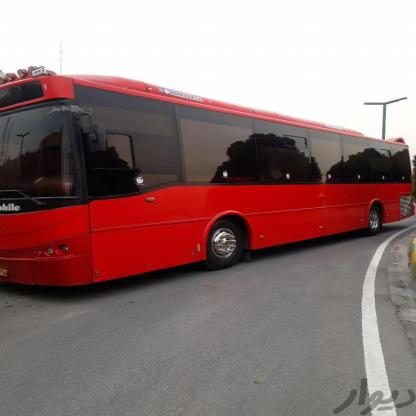Bus: (0, 72, 416, 300)
